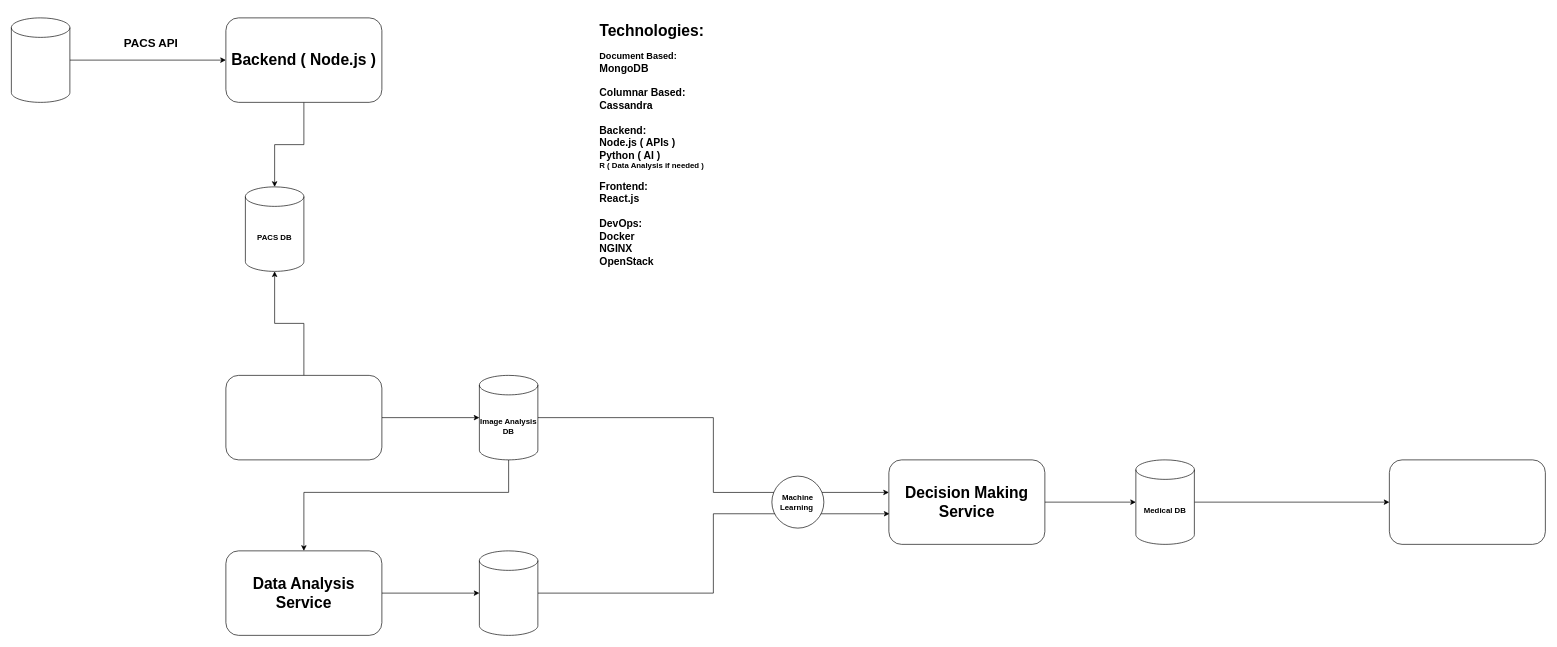
This 1557x647 diagram has some shape labels left out. The shapes that lost their labels are listed below. From the top down, each one's box as (x1, y1, x2, y2) in pixels, then its label:
(11, 17, 70, 102): HIS DB
(225, 375, 382, 460): Image Analysis Service
(1389, 459, 1545, 544): Web Interface ( Users )
(479, 550, 538, 635): Data Analysis DB
